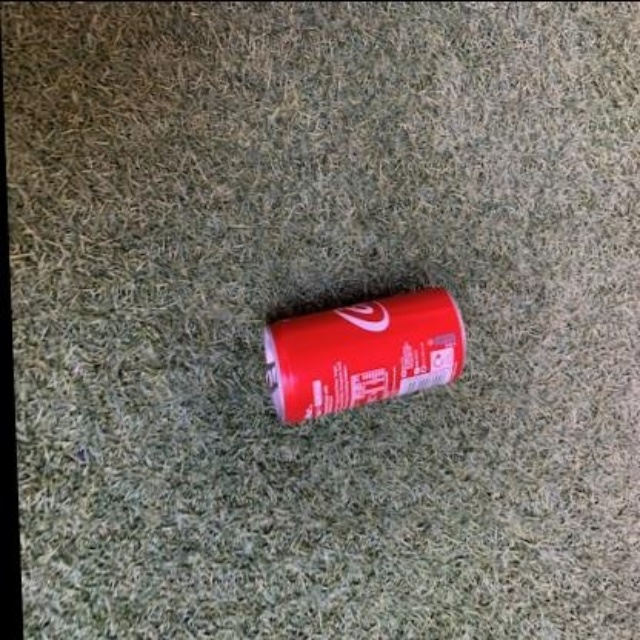trash: (265, 288, 463, 423)
